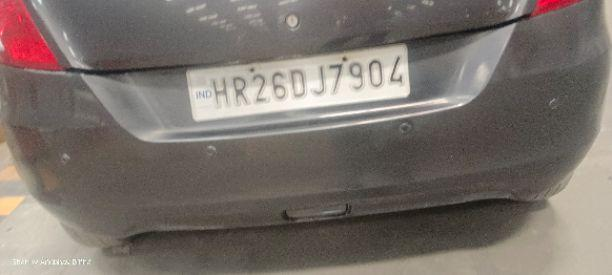license_plate: (0, 0, 610, 249), (184, 42, 411, 122)
